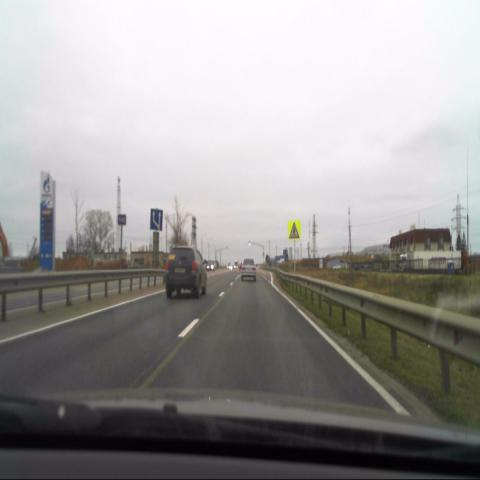1_22: (287, 218, 300, 238)
